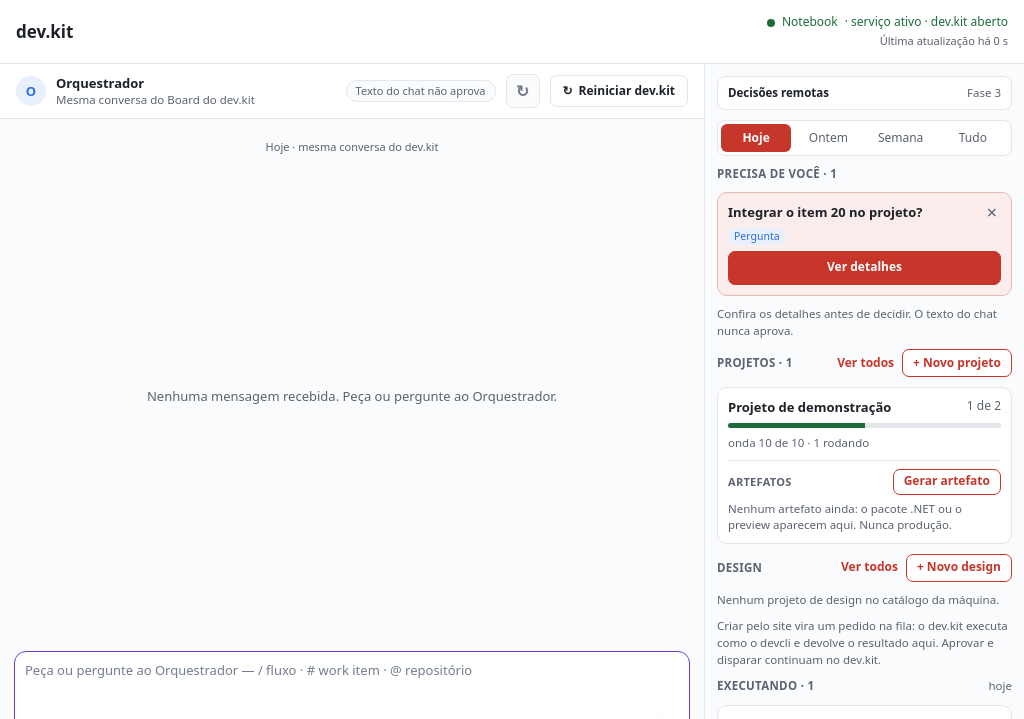
Scenario: Board remoto › responde com o botão do snapshot e mostra o registro comum sem segundo fator
The image size is (1024, 719).
What coordinates should you click on to do the following:
click the button "Ver detalhes"
I would click on:
 (864, 268)
Its box is x1=728 y1=251 x2=1001 y2=285.
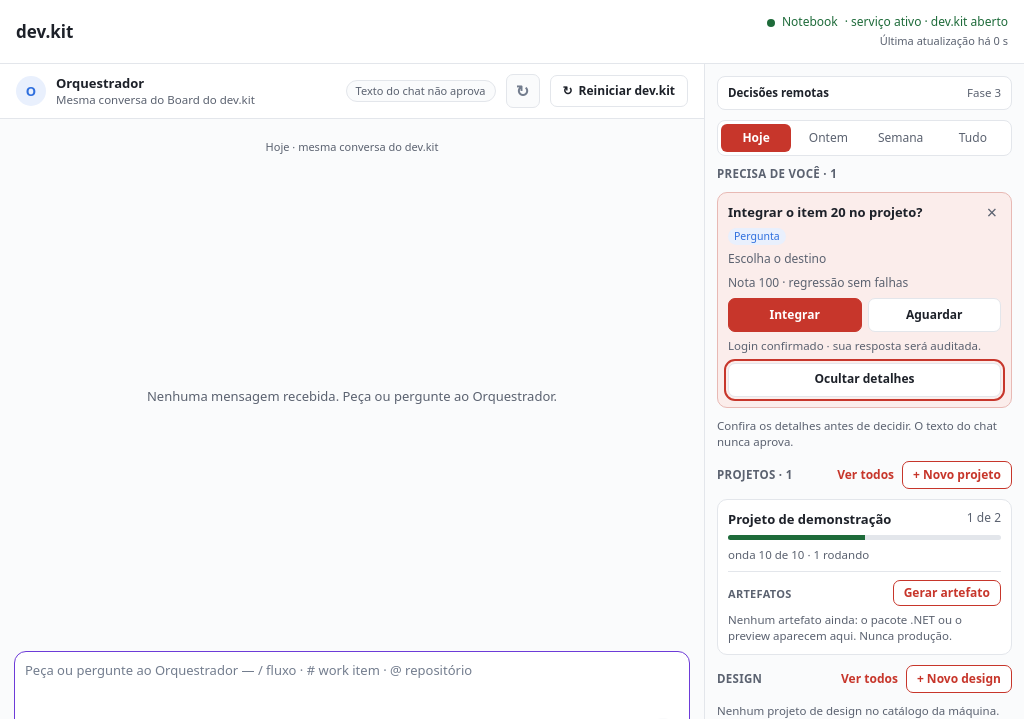
What coordinates should you click on to do the following:
click the button "Aguardar"
I would click on:
 (934, 316)
Its box is x1=868 y1=298 x2=1001 y2=332.
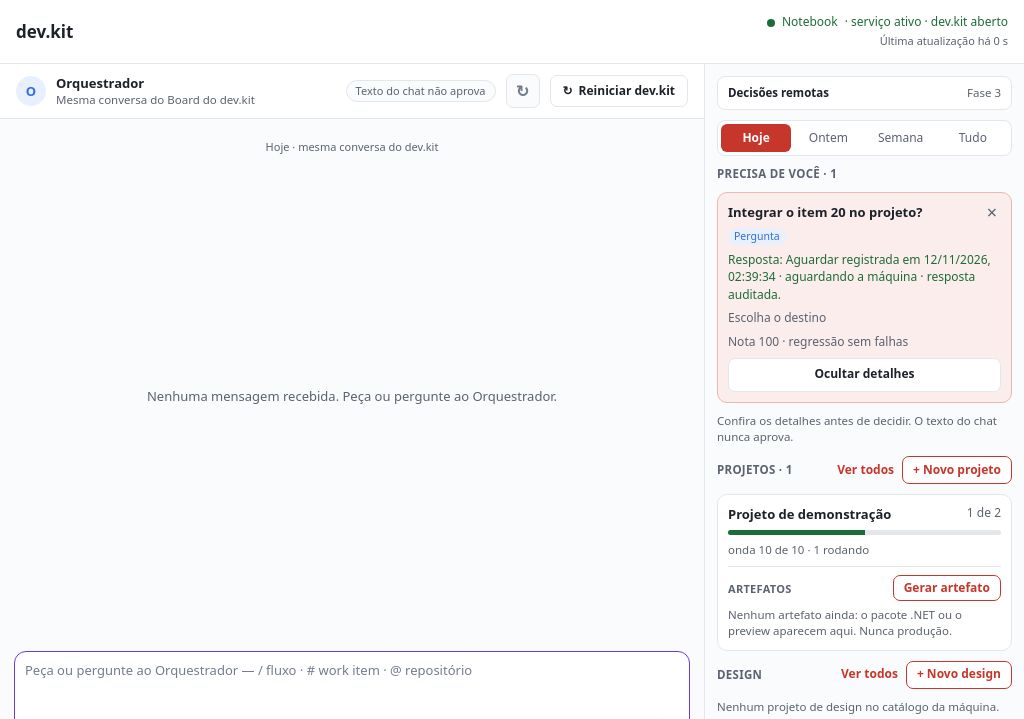
Check: the message shows "Resposta: Aguardar registrada", box x1=728 y1=251 x2=1001 y2=303
